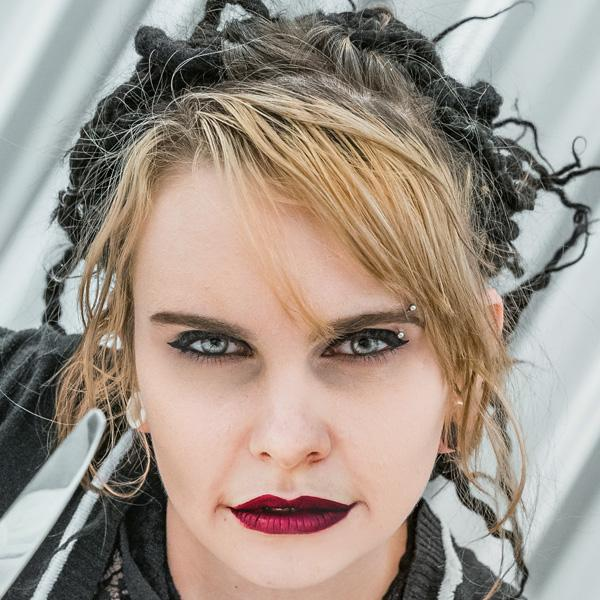Eyes: (313, 322, 411, 373), (163, 321, 258, 370)
